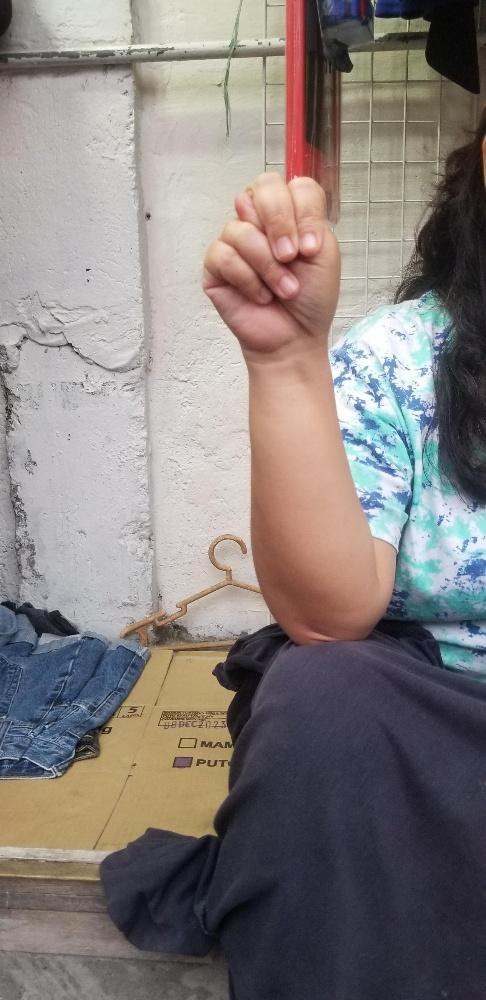n: (200, 167, 341, 348)
